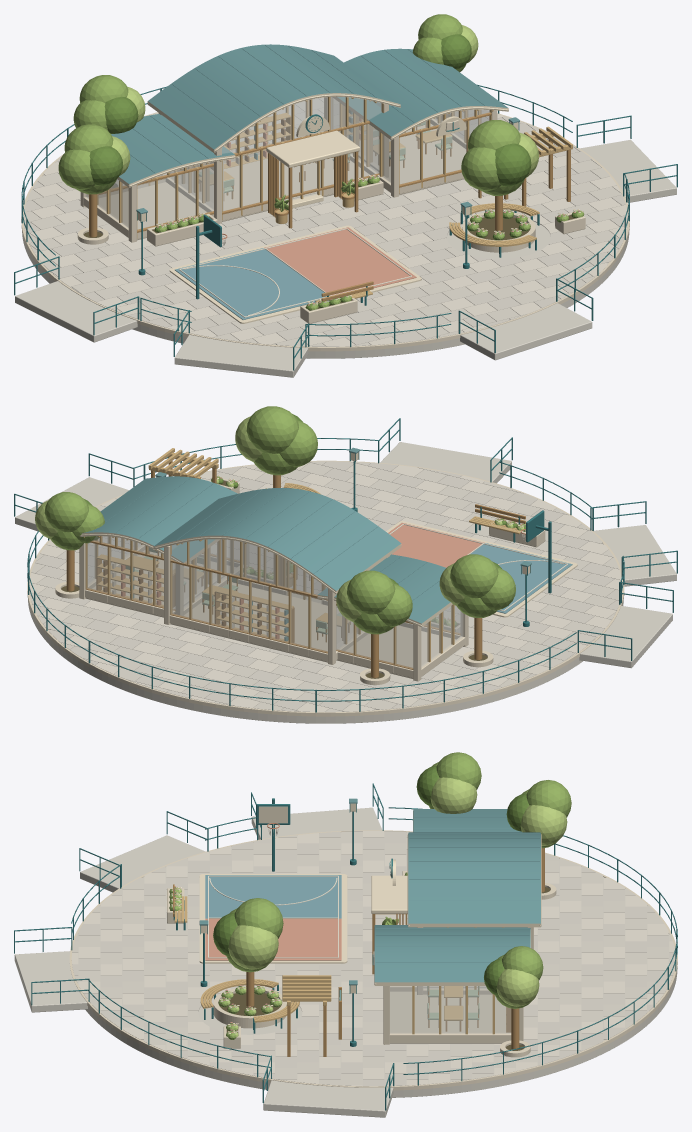
File: education.glb
3 views of the same model, one above another, from view 1: azimuth 30°, elevation 25°; view 2: azimuth 150°, elevation 25°; view 3: azimuth 270°, elevation 25° (orthographic).
Parts seen in each view (by area): view 1: Site_Components__WarmLimestonePaver1, Site_Components__WarmLimestonePaver0, Site_Components__WarmLimestonePaver2, Site_Components__stone, LearningHall__roof, Landscape_Components__leaf, LearningHall__Clear warm architectural glazing, LibraryReadingWing__roof, OutdoorActivityHalfCourt__Muted blue court, OutdoorActivityHalfCourt__Muted clay court, Landscape_Components__leafDark, Site_Components__rail (+29 smaller); view 2: Site_Components__WarmLimestonePaver1, Site_Components__WarmLimestonePaver2, Site_Components__WarmLimestonePaver0, Site_Components__stone, Landscape_Components__leaf, LearningHall__Clear warm architectural glazing, LearningHall__roof, Site_Components__rail, LibraryReadingWing__roof, LibraryReadingWing__Clear warm architectural glazing, Site_Components__cream, WestClassroomWing__Clear warm architectural glazing (+28 smaller); view 3: Site_Components__WarmLimestonePaver1, Site_Components__WarmLimestonePaver2, Site_Components__WarmLimestonePaver0, Site_Components__stone, LearningHall__roof, LibraryReadingWing__roof, Landscape_Components__leafLight, Landscape_Components__leaf, Site_Components__rail, LibraryReadingWing__Clear warm architectural glazing, OutdoorActivityHalfCourt__Muted blue court, Site_Components__cream (+19 smaller).
Part boxes in pixels (left/top/right/bottom): Site_Components__WarmLimestonePaver1: left=30, top=98, right=627, bottom=346; Site_Components__WarmLimestonePaver0: left=23, top=98, right=622, bottom=346; Site_Components__WarmLimestonePaver2: left=23, top=105, right=627, bottom=344; Site_Components__stone: left=15, top=139, right=676, bottom=377; LearningHall__roof: left=148, top=44, right=399, bottom=149; Landscape_Components__leaf: left=58, top=14, right=584, bottom=310; LearningHall__Clear warm architectural glazing: left=170, top=97, right=381, bottom=211; LibraryReadingWing__roof: left=337, top=48, right=507, bottom=136; OutdoorActivityHalfCourt__Muted blue court: left=175, top=248, right=326, bottom=319; OutdoorActivityHalfCourt__Muted clay court: left=264, top=227, right=416, bottom=295; Landscape_Components__leafDark: left=89, top=34, right=577, bottom=310; Site_Components__rail: left=14, top=84, right=677, bottom=370; Site_Components__WarmLimestonePaver1: left=29, top=462, right=622, bottom=712; Site_Components__WarmLimestonePaver2: left=30, top=461, right=618, bottom=711; Site_Components__WarmLimestonePaver0: left=31, top=461, right=619, bottom=712; Site_Components__stone: left=15, top=442, right=676, bottom=723; Landscape_Components__leaf: left=44, top=406, right=525, bottom=634; LearningHall__Clear warm architectural glazing: left=171, top=539, right=361, bottom=652; LearningHall__roof: left=154, top=488, right=401, bottom=590; Site_Components__rail: left=14, top=418, right=677, bottom=712; LibraryReadingWing__roof: left=82, top=476, right=237, bottom=562; LibraryReadingWing__Clear warm architectural glazing: left=87, top=536, right=227, bottom=609; Site_Components__cream: left=27, top=460, right=624, bottom=716; WestClassroomWing__Clear warm architectural glazing: left=336, top=605, right=463, bottom=668; Site_Components__WarmLimestonePaver1: left=71, top=831, right=674, bottom=1086; Site_Components__WarmLimestonePaver2: left=72, top=831, right=675, bottom=1086; Site_Components__WarmLimestonePaver0: left=72, top=831, right=675, bottom=1086; Site_Components__stone: left=14, top=807, right=677, bottom=1117; LearningHall__roof: left=408, top=832, right=540, bottom=923; LibraryReadingWing__roof: left=374, top=925, right=530, bottom=982; Landscape_Components__leafLight: left=176, top=777, right=567, bottom=1037; Landscape_Components__leaf: left=169, top=752, right=571, bottom=1039; Site_Components__rail: left=14, top=783, right=677, bottom=1110; LibraryReadingWing__Clear warm architectural glazing: left=390, top=986, right=510, bottom=1033; OutdoorActivityHalfCourt__Muted blue court: left=205, top=875, right=341, bottom=918; Site_Components__cream: left=69, top=830, right=677, bottom=1090.
Size of the model in its own units: 27.98 by 5.3 by 25.81.
